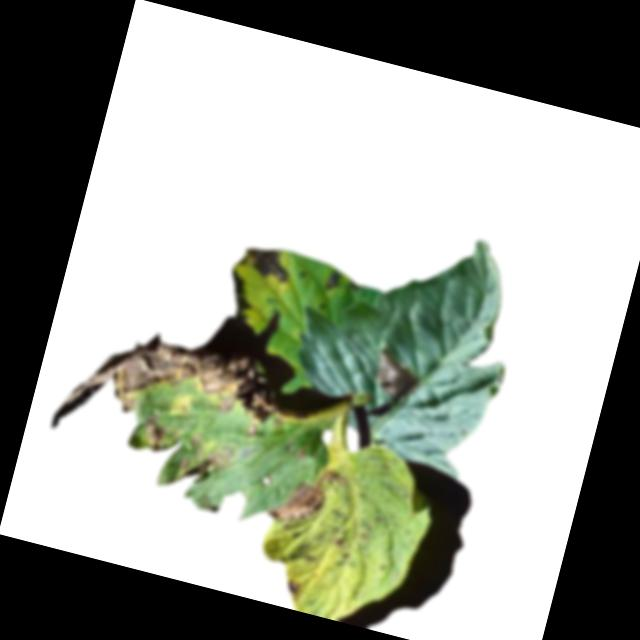Early_blight: (48, 312, 312, 487), (269, 456, 340, 533), (371, 350, 422, 403), (237, 240, 294, 285), (221, 265, 260, 316), (281, 576, 303, 598), (324, 267, 342, 292)
